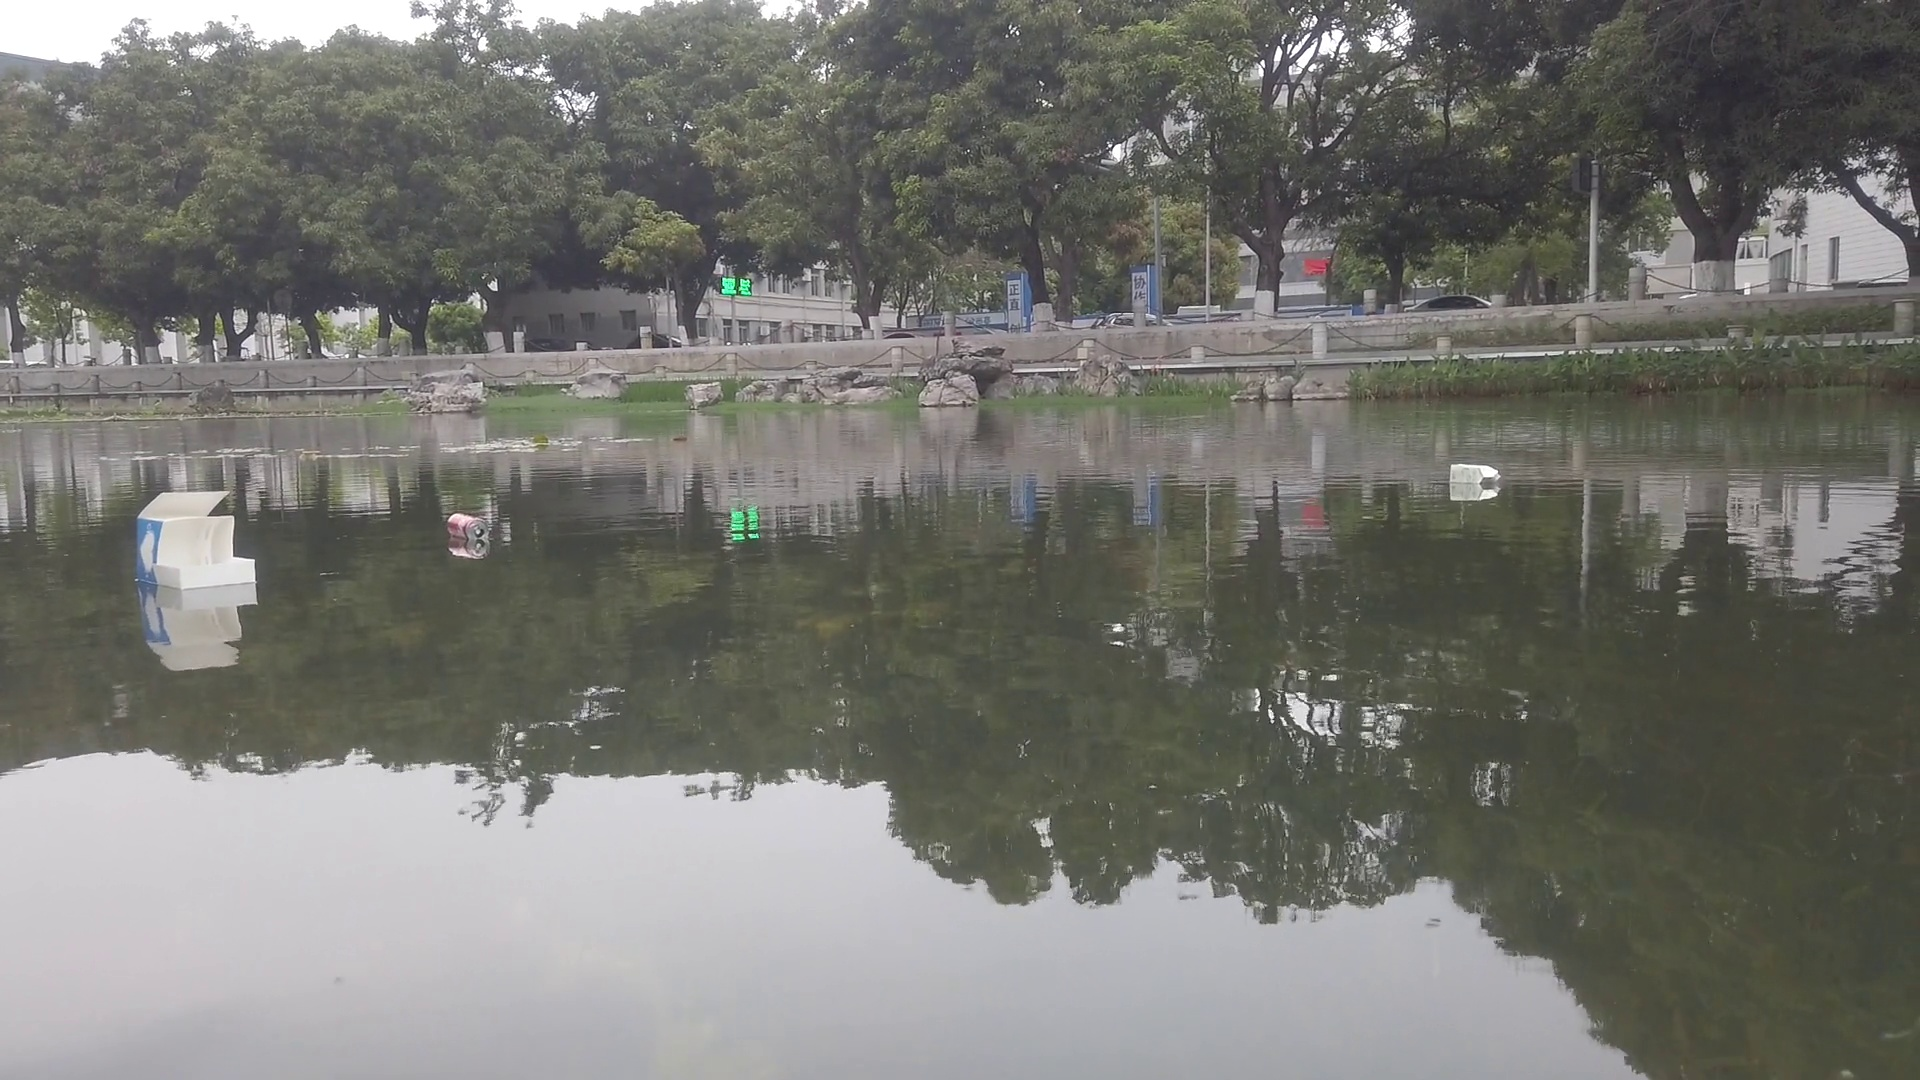bottle: (448, 510, 489, 542)
carton: (135, 491, 262, 585), (1448, 462, 1503, 483)
